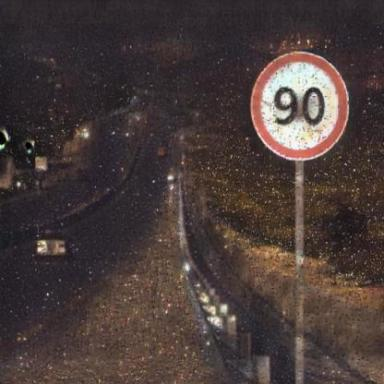Speed_limit_90: (252, 56, 348, 159)
